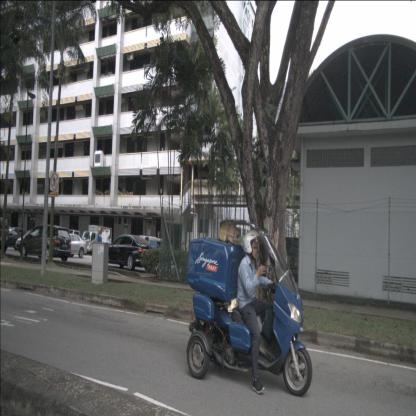vehicle-car: (16, 224, 72, 262), (101, 235, 155, 271), (15, 229, 57, 253), (51, 234, 87, 258), (5, 227, 38, 250), (0, 217, 10, 254)
vehicle-motorcycle: (186, 219, 312, 397)
vehicle-truck: (125, 236, 169, 268), (82, 225, 112, 255), (61, 229, 93, 254)
